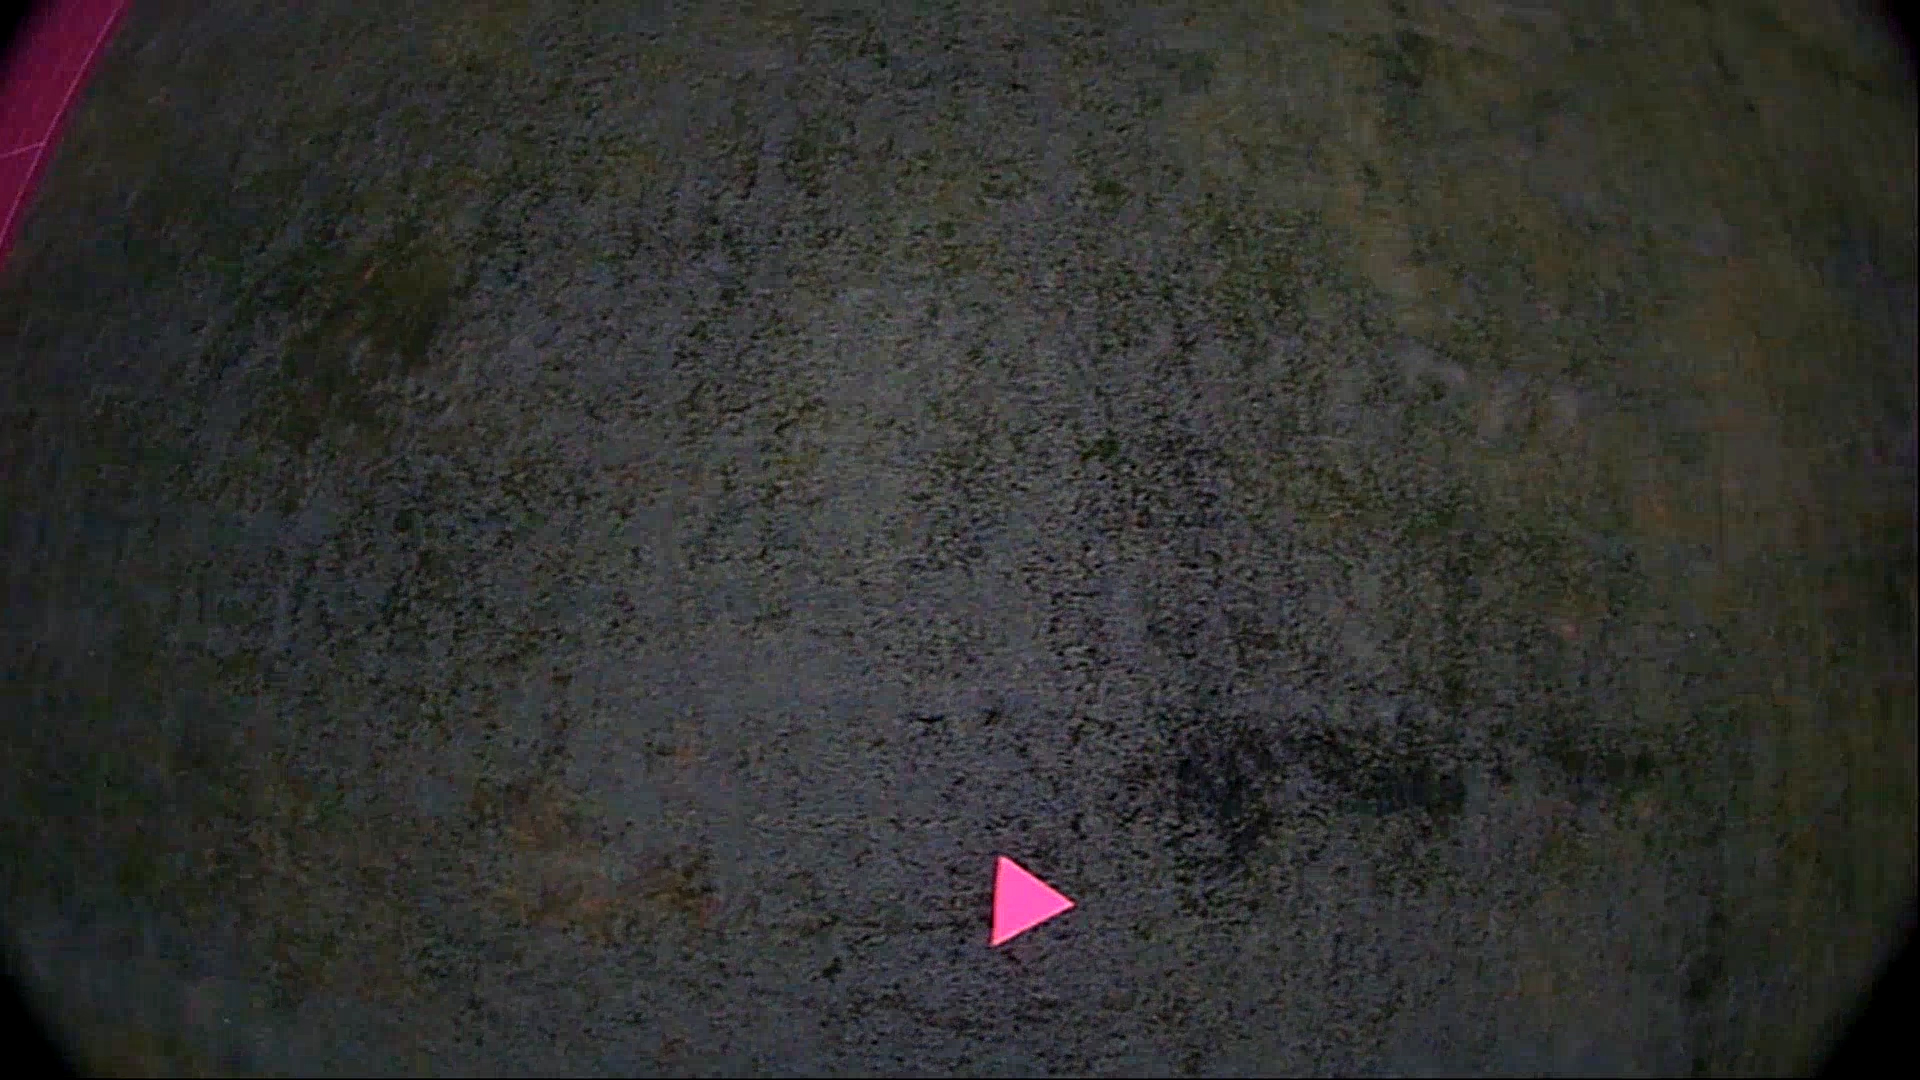triangle: (984, 848, 1080, 949)
